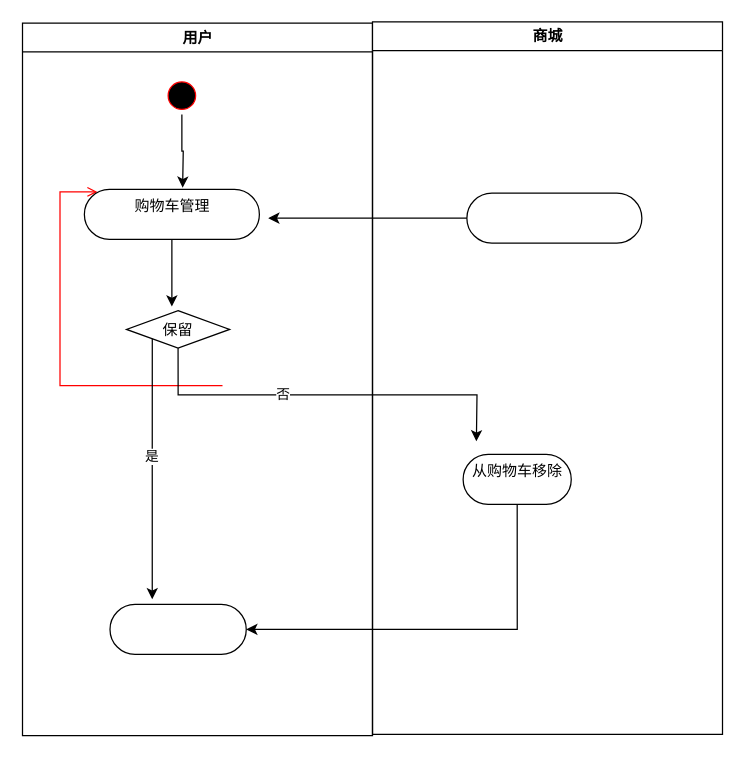
The diagram is 744 pixels wide and 758 high, and some of its shapes have lost their labels. The shapes that lost their labels are listed below. From the top down, each one's centre as x and y in pixels, then its label:
At point (554, 217): "显示购物车界面".
At point (177, 628): "结算".
